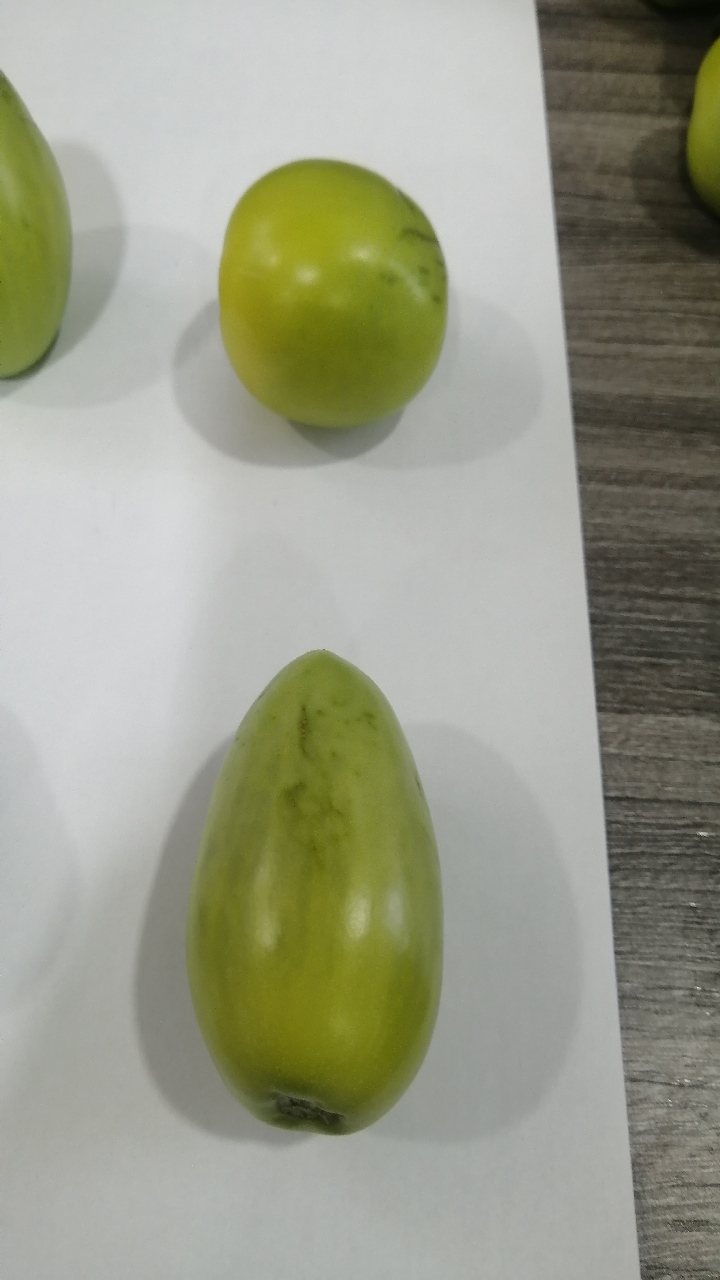tomateVerde: (168, 640, 468, 1160), (192, 134, 451, 440)
